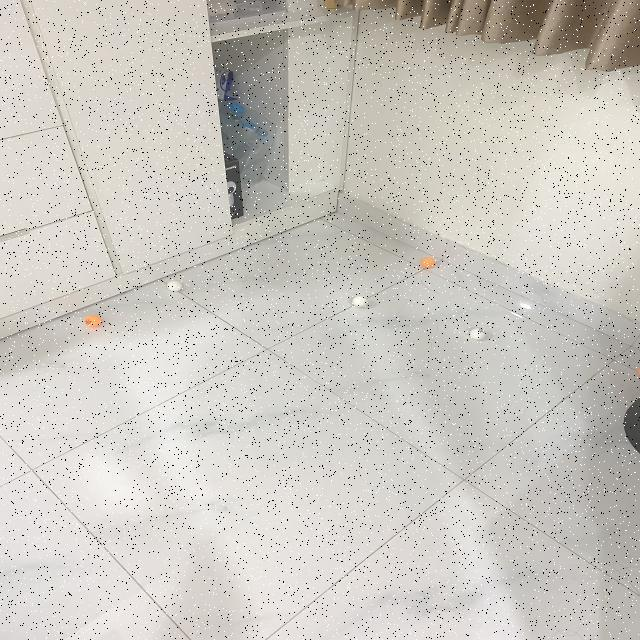ping-pong-ball: (84, 313, 104, 329), (468, 326, 488, 338), (352, 294, 369, 308), (419, 255, 433, 270), (168, 280, 184, 292), (635, 367, 640, 375)
